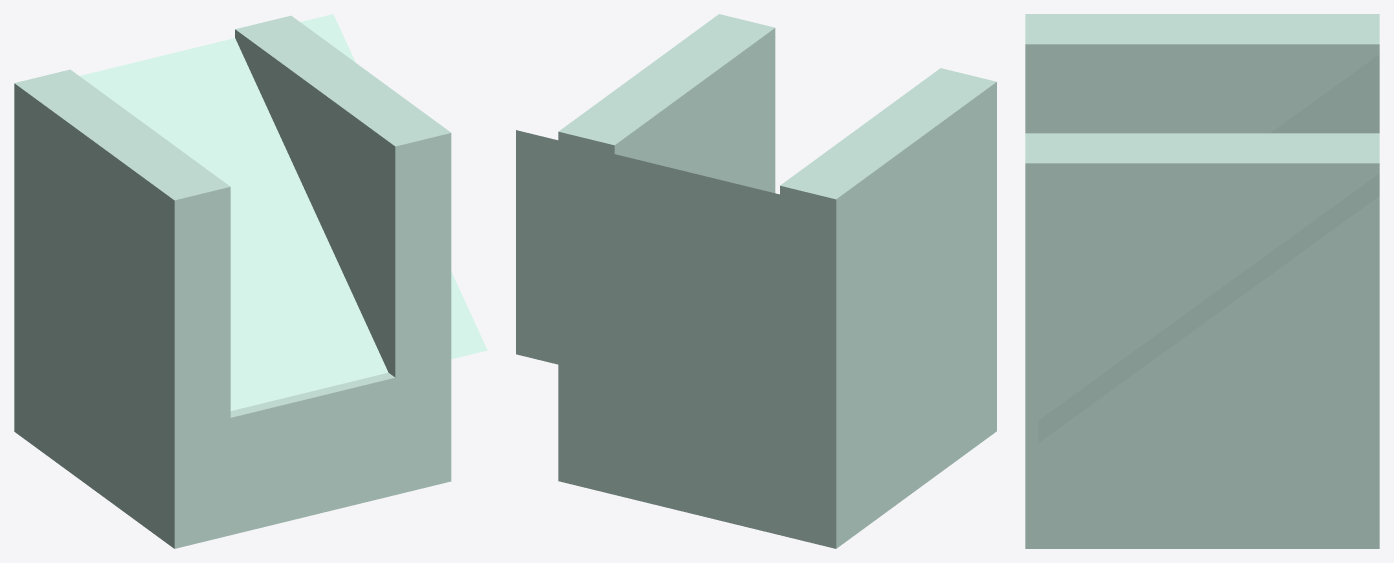
The picture shows the model from 3 angles, left to right: view 1: azimuth 30°, elevation 25°; view 2: azimuth 150°, elevation 25°; view 3: azimuth 270°, elevation 25°; orthographic projection. The views are drawn at different scales.
Visible parts, largest first — view 1: Renderer Node; view 2: Renderer Node; view 3: Renderer Node.
Part boxes in pixels (x1,y1,x2,y2): Renderer Node: (14, 14, 487, 548); Renderer Node: (516, 14, 996, 548); Renderer Node: (1025, 14, 1379, 548).
Size of the model in its own units: 0.7188 by 0.75 by 0.625.
